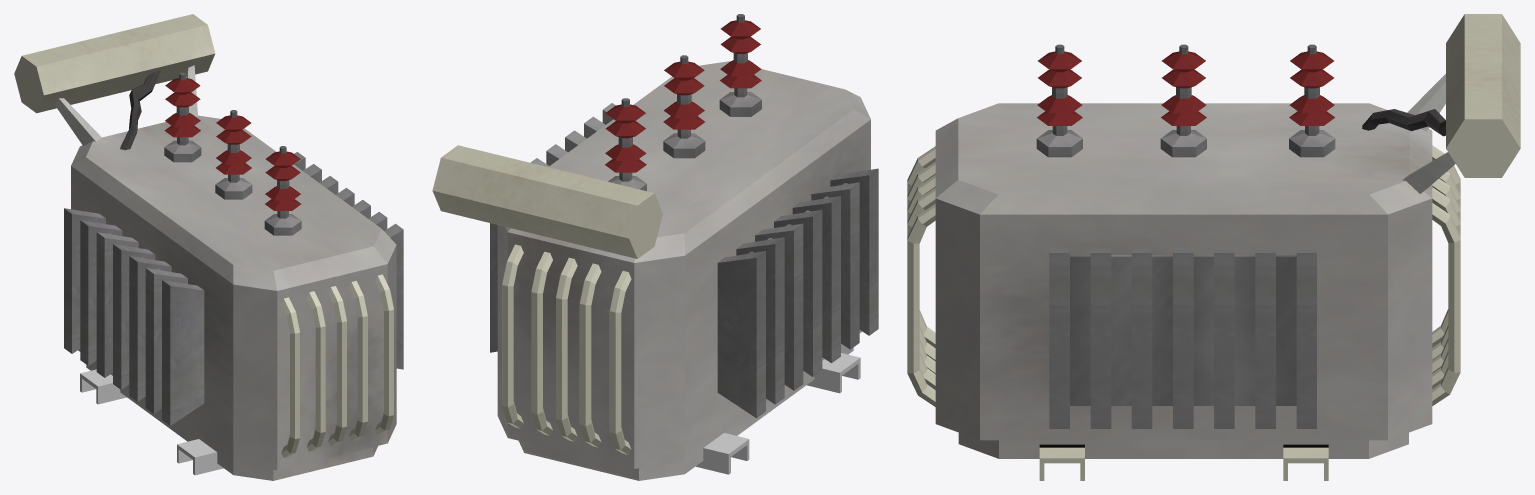
Rendered from transformador.fbx.
3 renders of one model, left to right at view 1: azimuth 30°, elevation 25°; view 2: azimuth 150°, elevation 25°; view 3: azimuth 270°, elevation 25°, orthographic. The views are drawn at different scales.
Visible parts, largest first — view 1: Cube.001; view 2: Cube.001; view 3: Cube.001.
Boxes of the visible parts, x1,y1,x2,y2 form: Cube.001: (14, 14, 403, 480); Cube.001: (432, 14, 878, 480); Cube.001: (907, 14, 1520, 480).
Bounding box in the file's own units: 272 × 333 × 493.
